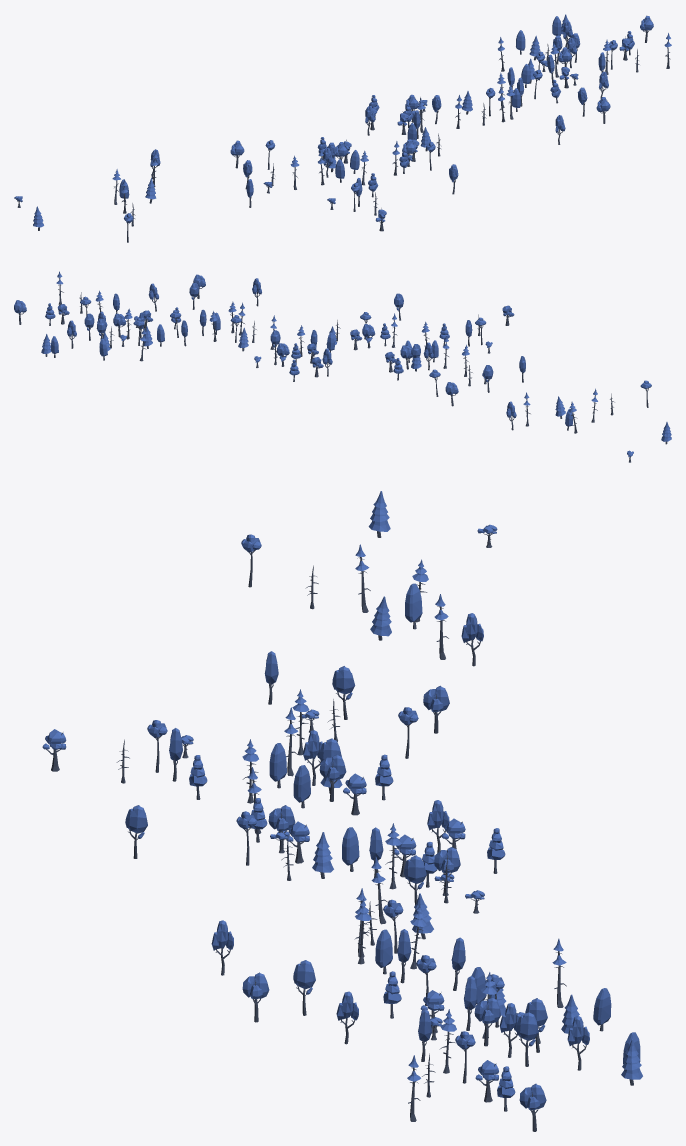
Rendered from pohon highground 3.fbx.
3 renders of one model, top to bottom at view 1: azimuth 30°, elevation 25°; view 2: azimuth 150°, elevation 25°; view 3: azimuth 270°, elevation 25°, orthographic. The views are drawn at different scales.
Bounding box in the file's own units: 27237 × 1529 × 11453.
